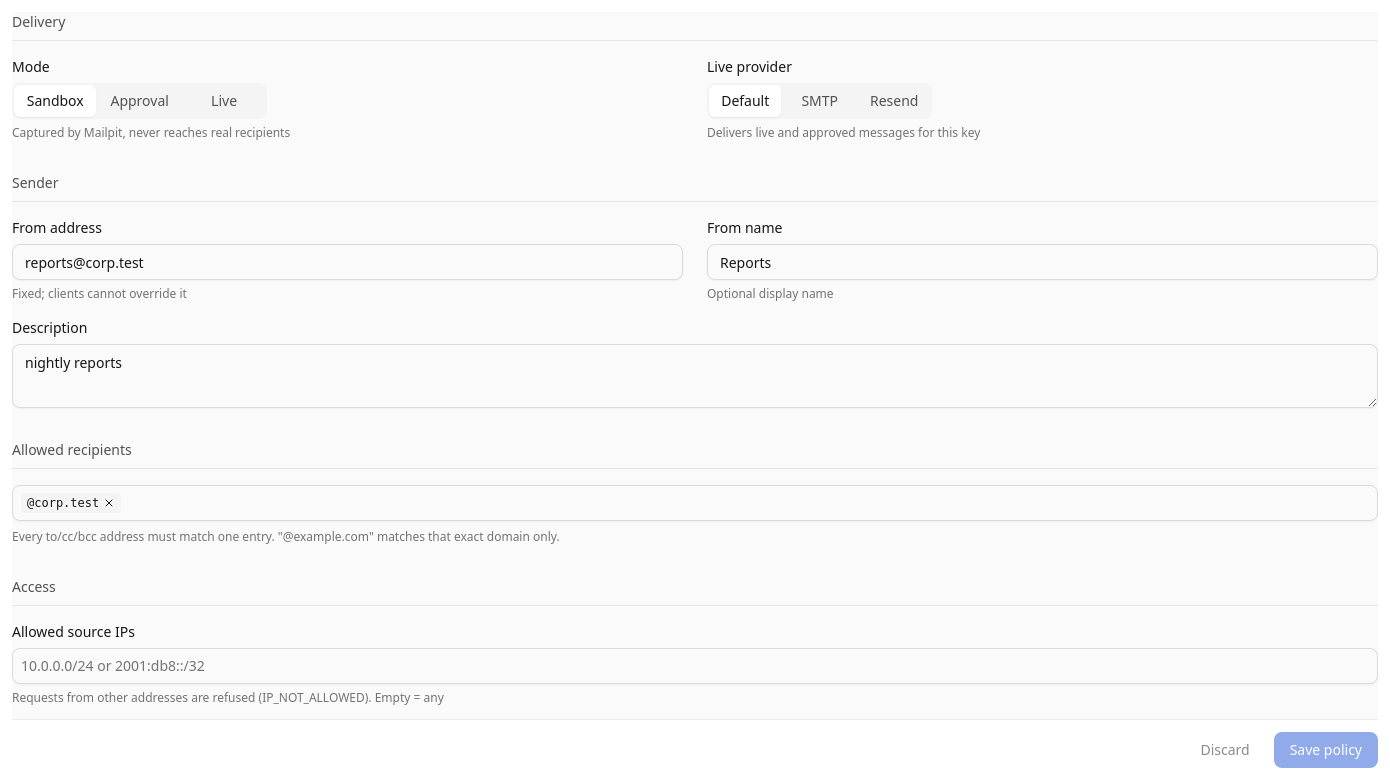
Test: PolicyEditor › warns about an empty allow-list
The width and height of the screenshot is (1390, 780).
Click the button named "Remove @corp.test": {"x": 109, "y": 503} [103,497,115,509]
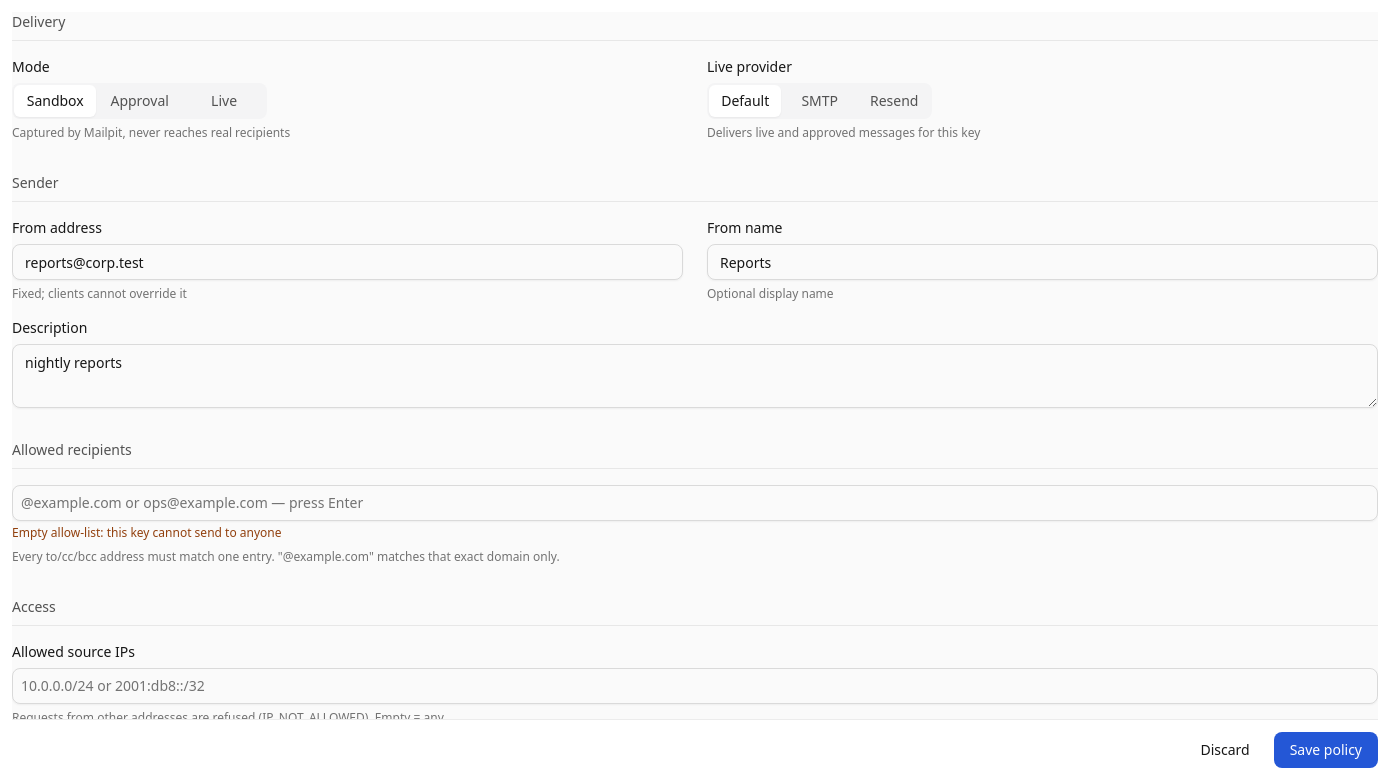
Result: the text "Empty allow-list: this key cannot send to anyone" is shown at [12,524,282,541]
